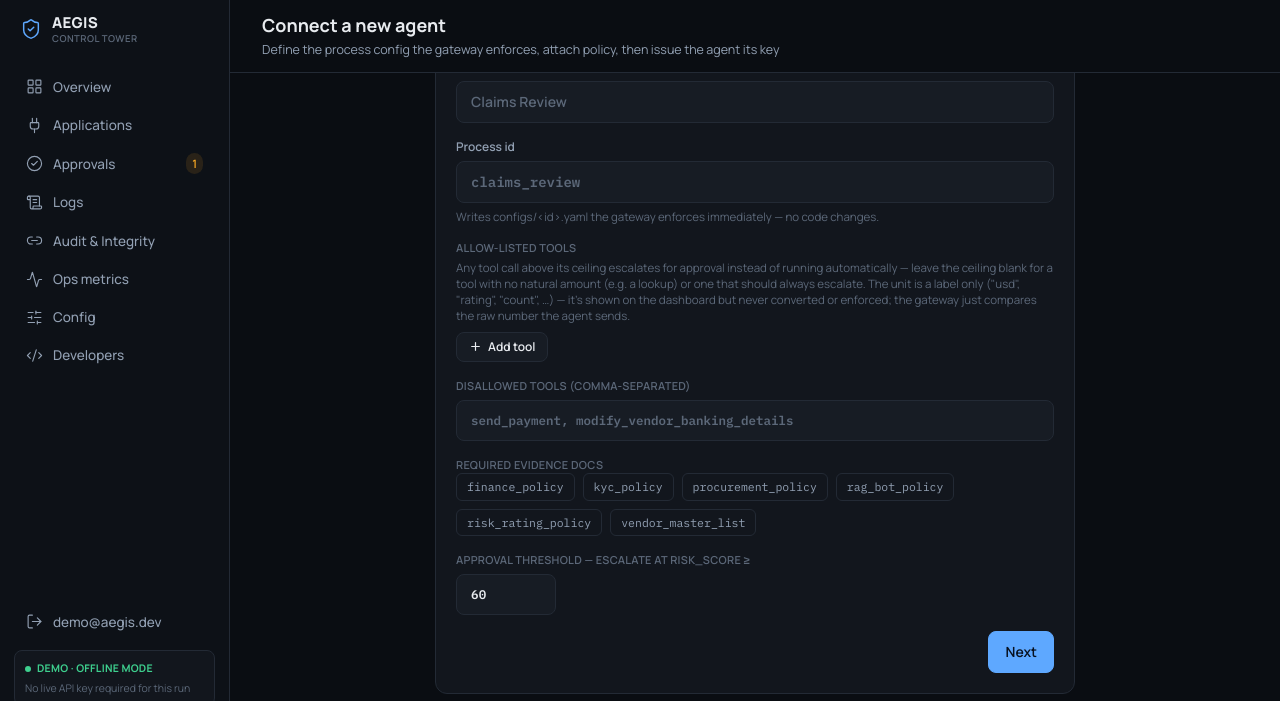
Test: ProcessWizardPage › requires a title before advancing when creating a new process
(page scrolled)
Click the button "Next" at (1021, 652), box [988,631,1054,673]
(page scrolled)
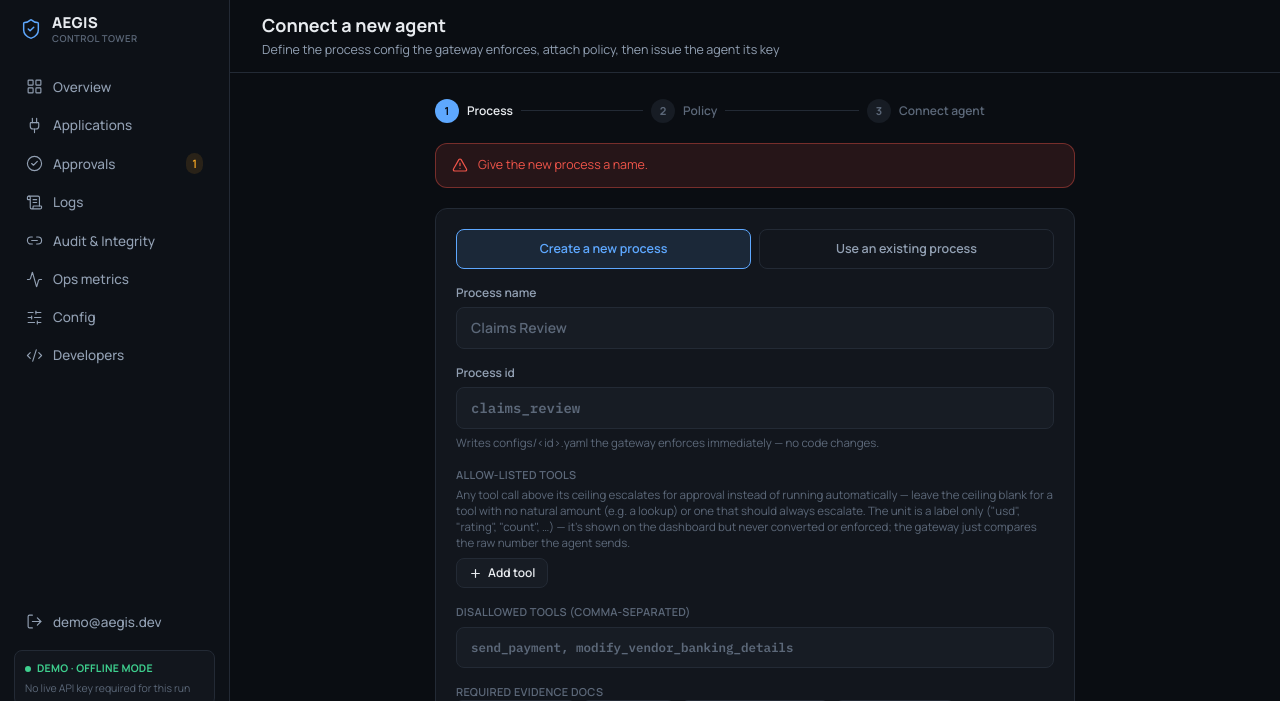
expect the text "Give the new process a name." is shown: met, box [435,143,1075,188]
